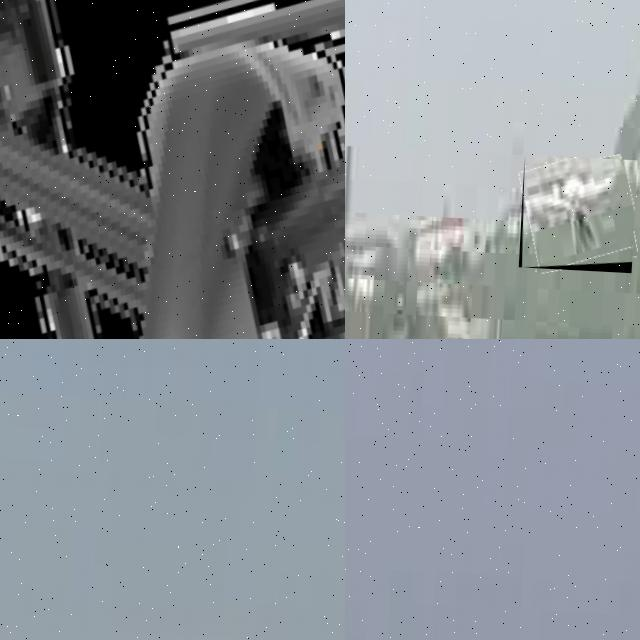drone: (0, 0, 345, 339), (518, 154, 638, 274)
